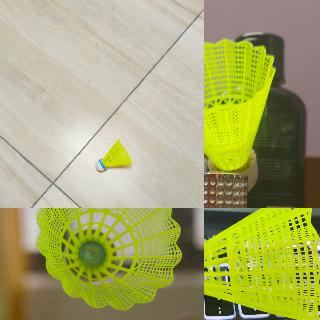shuttlecock: (36, 208, 182, 311), (204, 208, 319, 319), (204, 39, 275, 192), (96, 139, 130, 173)
